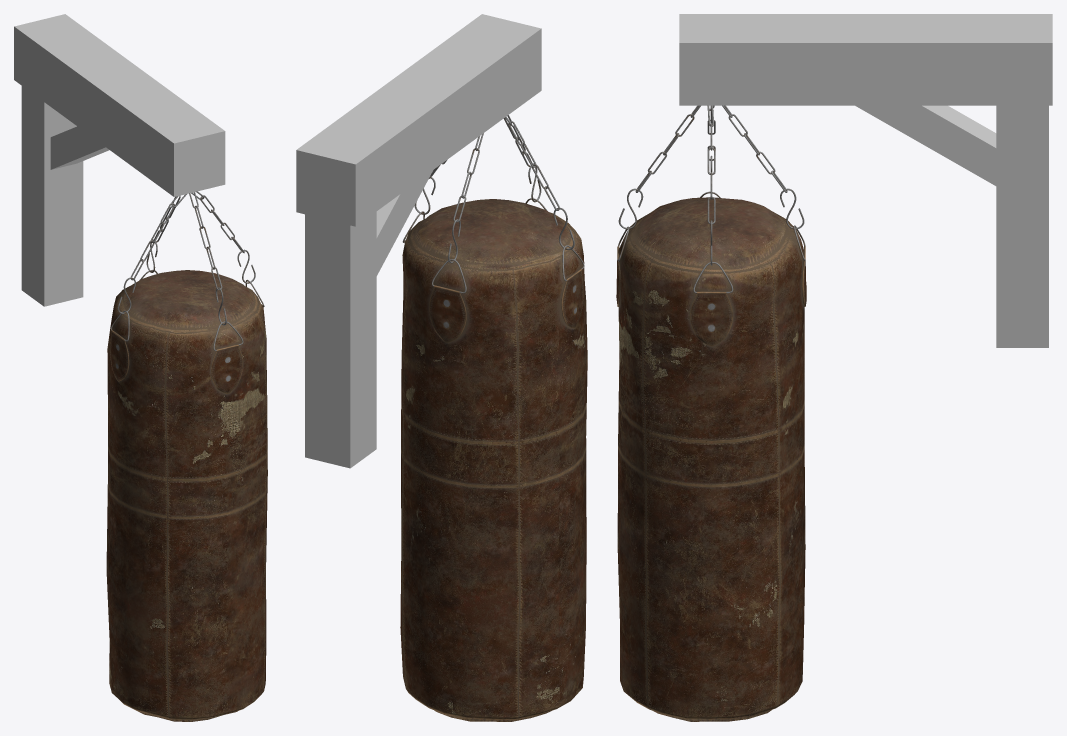
The model's file is BoxingBag.fbx.
3 views of the same model, side by side, from view 1: azimuth 30°, elevation 25°; view 2: azimuth 150°, elevation 25°; view 3: azimuth 270°, elevation 25° (orthographic). The views are drawn at different scales.
Visible parts, largest first — view 1: Bag, WoodPlank, WoodPlank2, woodPlank3; view 2: Bag, WoodPlank, WoodPlank2, woodPlank3; view 3: Bag, WoodPlank, WoodPlank2, woodPlank3.
Part boxes in pixels (x1,y1,x2,y2): Bag: (106,191,267,721); WoodPlank: (14,14,225,196); WoodPlank2: (21,86,83,306); woodPlank3: (50,126,109,169); Bag: (400,115,587,721); WoodPlank: (296,14,541,226); WoodPlank2: (305,212,376,468); woodPlank3: (376,170,433,275); Bag: (616,105,806,721); WoodPlank: (679,14,1052,105); WoodPlank2: (996,105,1048,347); woodPlank3: (855,105,996,185).
Size of the model in its own units: 0.4294 by 1.68 by 0.9841.
